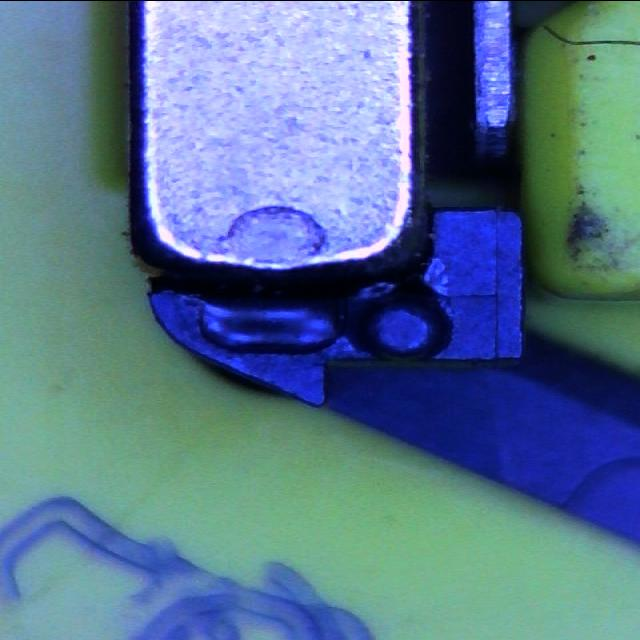over: (198, 286, 348, 352)
